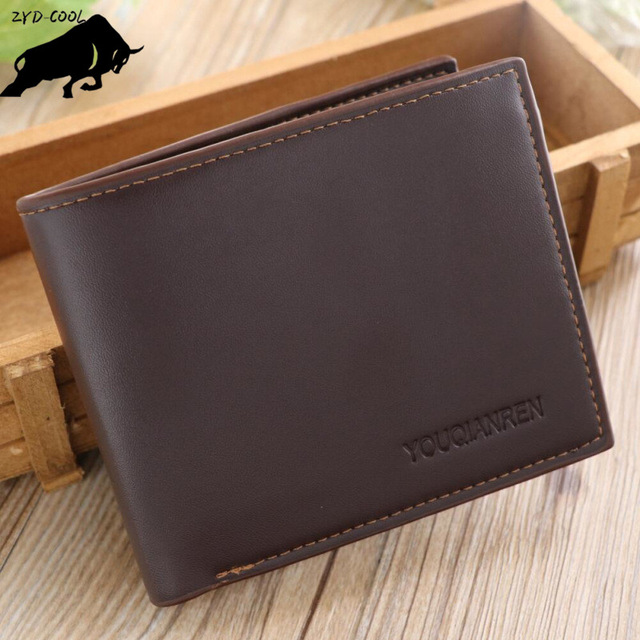monedero: (14, 54, 612, 608)
